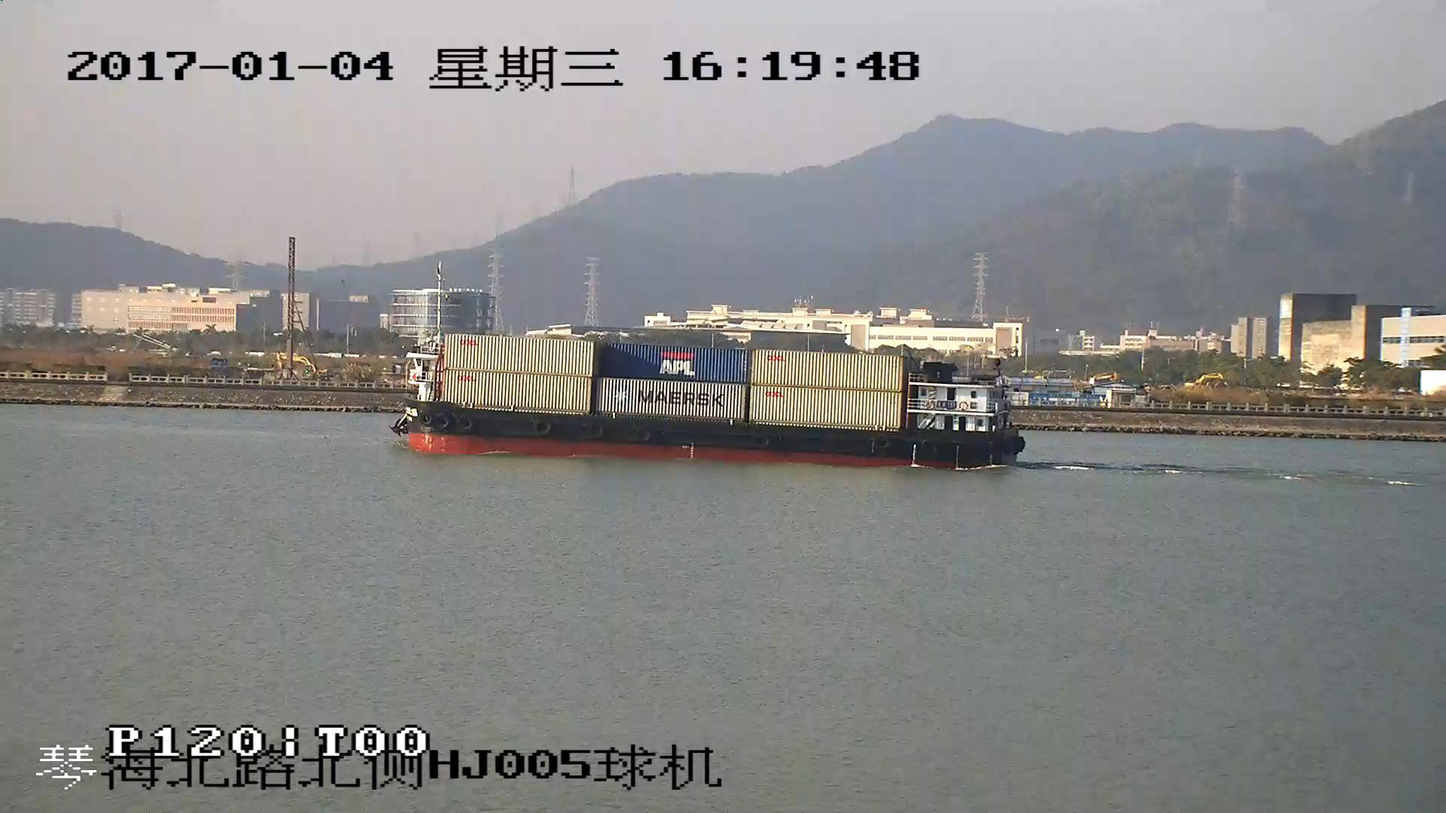container ship: (392, 325, 1024, 467)
